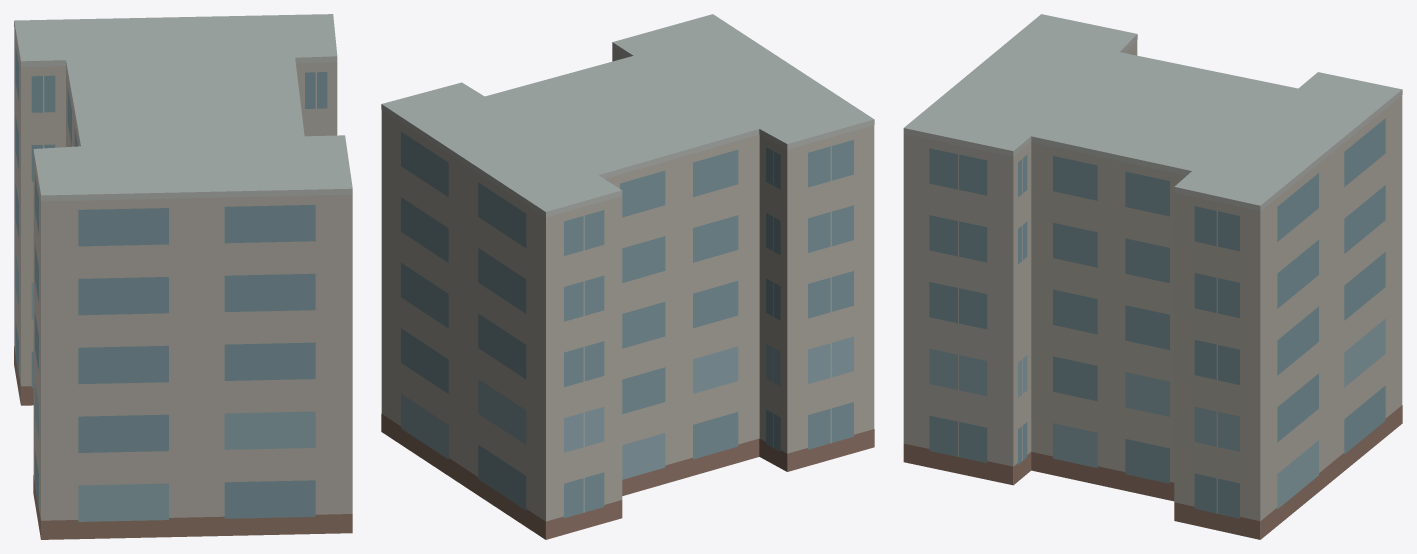
The model's file is survey-upis-32887619.glb.
3 views of the same model, side by side, from view 1: azimuth 30°, elevation 25°; view 2: azimuth 150°, elevation 25°; view 3: azimuth 270°, elevation 25° (orthographic). The views are drawn at different scales.
Parts seen in each view (by area): view 1: survey-upis-32887619.tmp; view 2: survey-upis-32887619.tmp; view 3: survey-upis-32887619.tmp.
Part boxes in pixels (box(x1,y1,x2,y2)): survey-upis-32887619.tmp: box(14, 14, 352, 539); survey-upis-32887619.tmp: box(381, 14, 874, 539); survey-upis-32887619.tmp: box(903, 14, 1402, 539).
Size of the model in its own units: 17.49 by 14.2 by 19.22.
